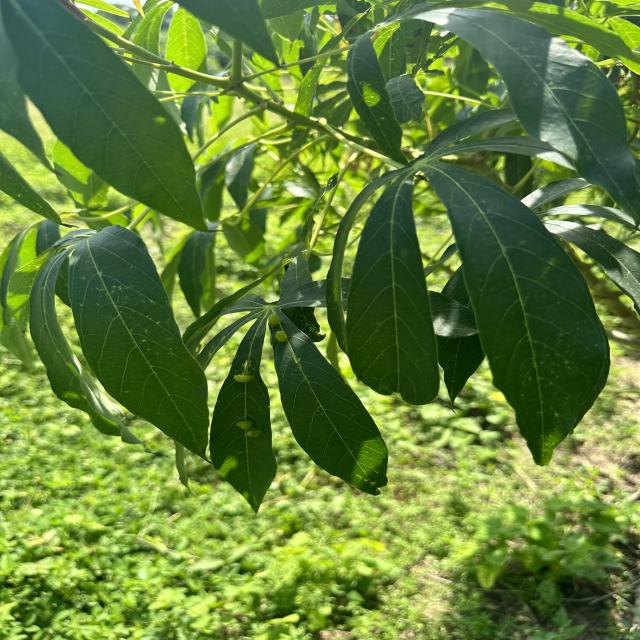Maleza: (133, 486, 533, 638), (5, 451, 189, 632), (409, 493, 640, 625)
Mosca: (262, 304, 299, 359), (233, 407, 271, 445), (222, 367, 255, 390)
